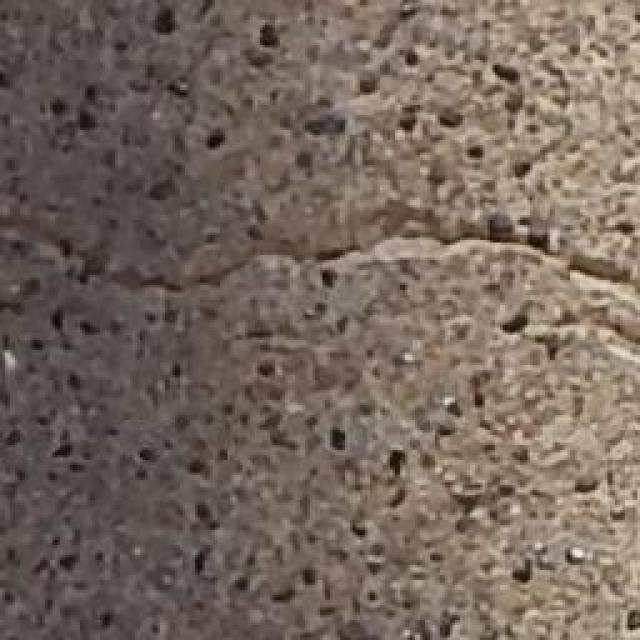concrete-crack: (7, 207, 640, 313), (230, 296, 636, 367)
